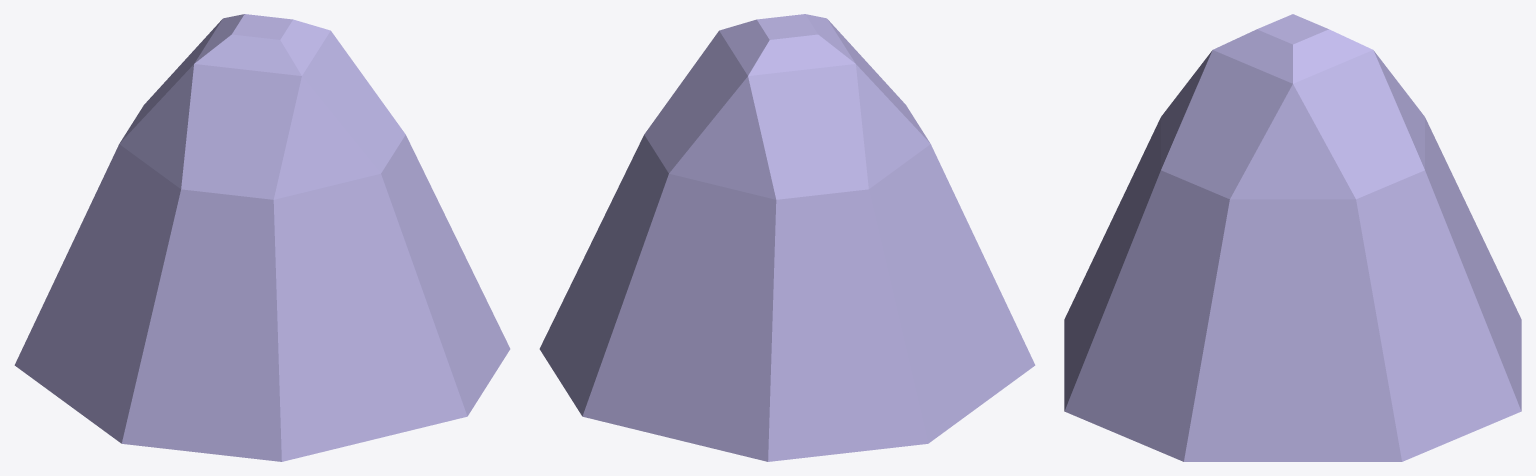
3 renders of one model, left to right at view 1: azimuth 30°, elevation 25°; view 2: azimuth 150°, elevation 25°; view 3: azimuth 270°, elevation 25°, orthographic.
Visible parts, largest first — view 1: cone3; view 2: cone3; view 3: cone3.
Part boxes in pixels (x1,y1,x2,y2): cone3: (14, 14, 510, 461); cone3: (539, 14, 1035, 461); cone3: (1064, 14, 1521, 461).
Size of the model in its own units: 346 by 281 by 346.
